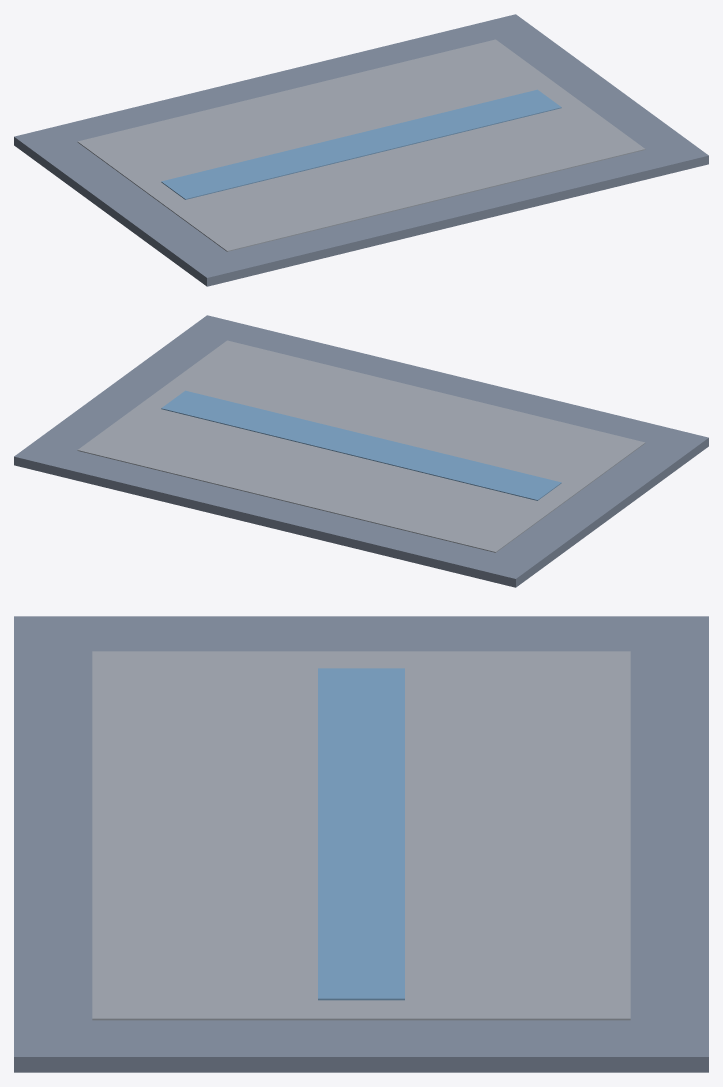
Rendered from office_tapete.glb.
The picture shows the model from 3 angles, top to bottom: view 1: azimuth 30°, elevation 25°; view 2: azimuth 150°, elevation 25°; view 3: azimuth 270°, elevation 25°; orthographic projection. The views are drawn at different scales.
Parts seen in each view (by area): view 1: OFFICE_TAPETE_v01; view 2: OFFICE_TAPETE_v01; view 3: OFFICE_TAPETE_v01.
Boxes of the visible parts, x1,y1,x2,y2 form: OFFICE_TAPETE_v01: (14,14,708,286); OFFICE_TAPETE_v01: (14,315,708,587); OFFICE_TAPETE_v01: (14,616,708,1072).
Bounding box in the file's own units: 1.2 × 0.024 × 0.8.
